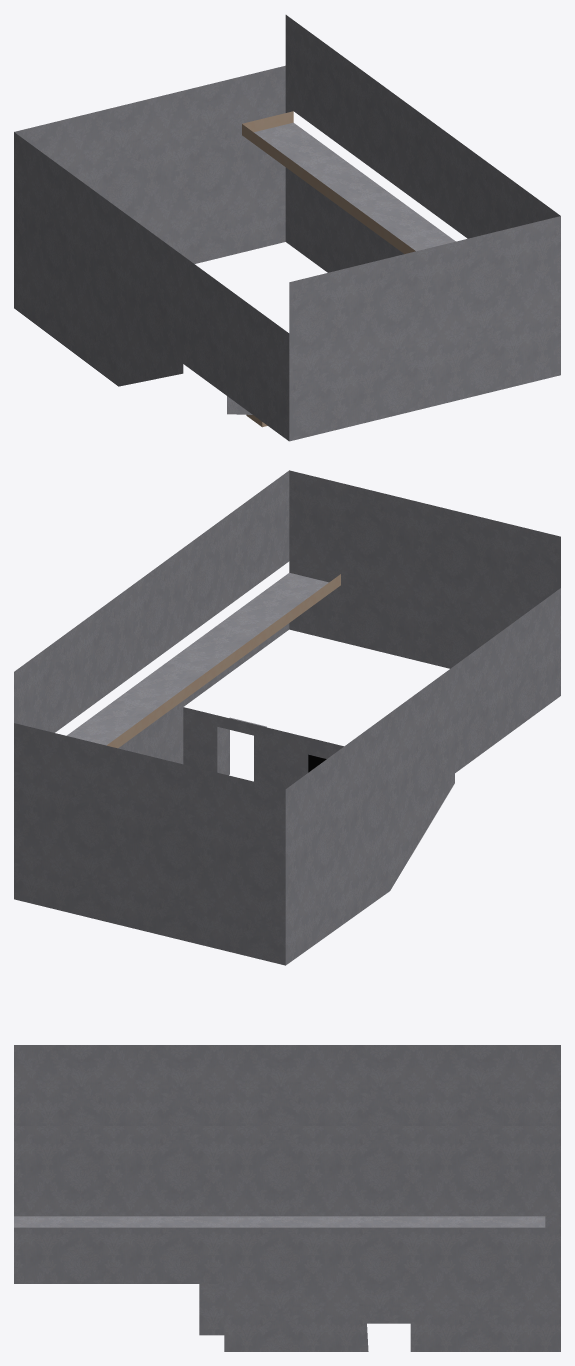
The model's file is Diningroom.fbx.
3 views of the same model, one above another, from view 1: azimuth 30°, elevation 25°; view 2: azimuth 150°, elevation 25°; view 3: azimuth 270°, elevation 25° (orthographic).
Visible parts, largest first — view 1: Diningroom; view 2: Diningroom; view 3: Diningroom.
Part boxes in pixels (bbox=[...]): Diningroom: bbox=[14, 15, 560, 441]; Diningroom: bbox=[14, 470, 560, 965]; Diningroom: bbox=[14, 1045, 560, 1351].
Size of the model in its own units: 50 by 49.5 by 87.75.
